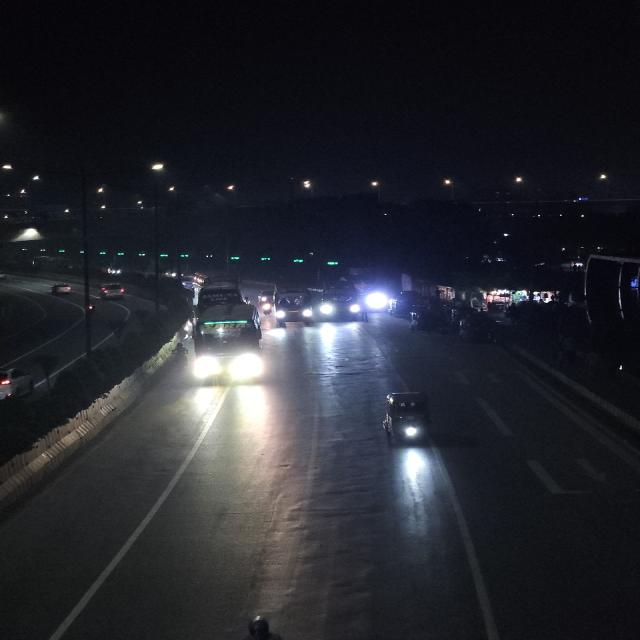bus: (191, 296, 264, 386), (317, 284, 363, 324), (270, 285, 312, 326)
car: (96, 283, 128, 301), (48, 282, 75, 296)
cng: (378, 389, 436, 448)
